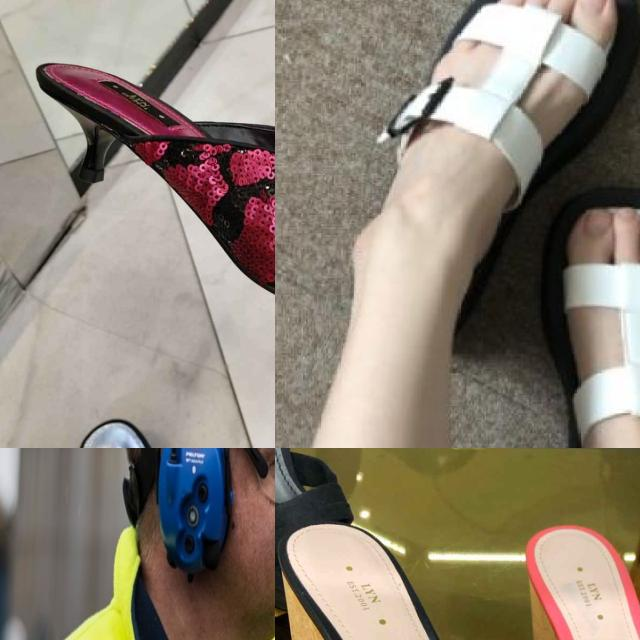Ear-protection: (112, 448, 275, 640)
Sandals: (346, 0, 633, 350), (23, 27, 275, 367), (275, 502, 640, 640), (539, 177, 640, 448), (518, 492, 640, 640)
